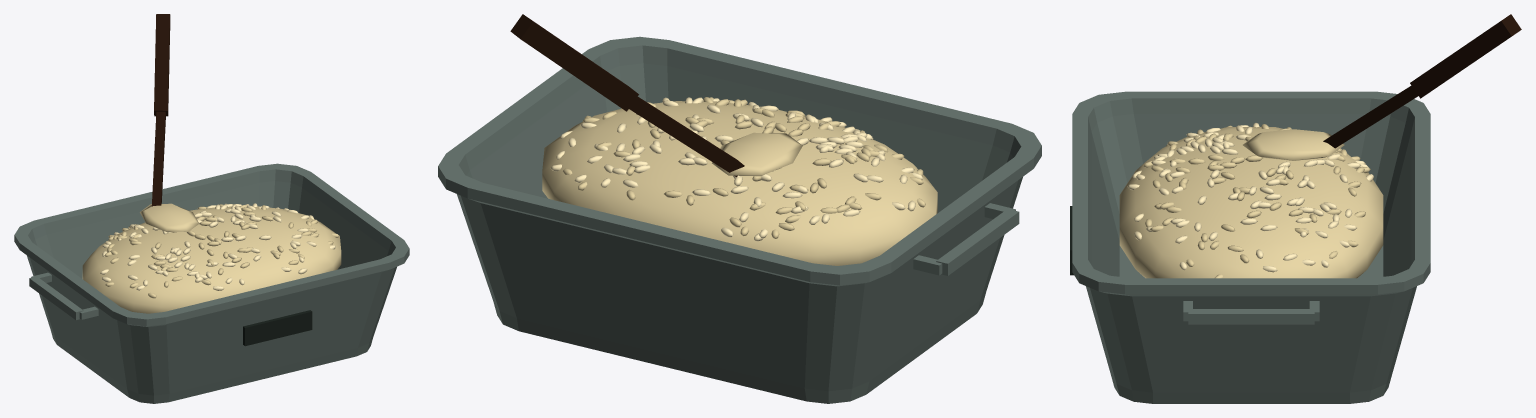
Rendered from 01_Rice_Pan.fbx.
3 renders of one model, left to right at view 1: azimuth 30°, elevation 25°; view 2: azimuth 150°, elevation 25°; view 3: azimuth 270°, elevation 25°, orthographic. The views are drawn at different scales.
Parts seen in each view (by area): view 1: Container, Food, Utensil; view 2: Container, Food, Utensil; view 3: Container, Food, Utensil.
Boxes of the visible parts, left/top/right/bottom form: Container: left=14, top=163, right=409, bottom=403; Food: left=82, top=203, right=341, bottom=313; Utensil: left=140, top=14, right=199, bottom=232; Container: left=438, top=36, right=1041, bottom=403; Food: left=542, top=97, right=937, bottom=265; Utensil: left=510, top=14, right=802, bottom=177; Container: left=1070, top=91, right=1430, bottom=403; Food: left=1119, top=123, right=1383, bottom=278; Utensil: left=1243, top=14, right=1521, bottom=160.
Size of the model in its own units: 71.1 by 53.01 by 64.27.
Materials: 2 (2 with a texture image).
